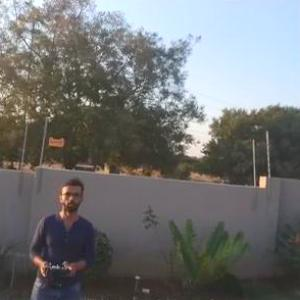follow: (21, 174, 97, 299)
